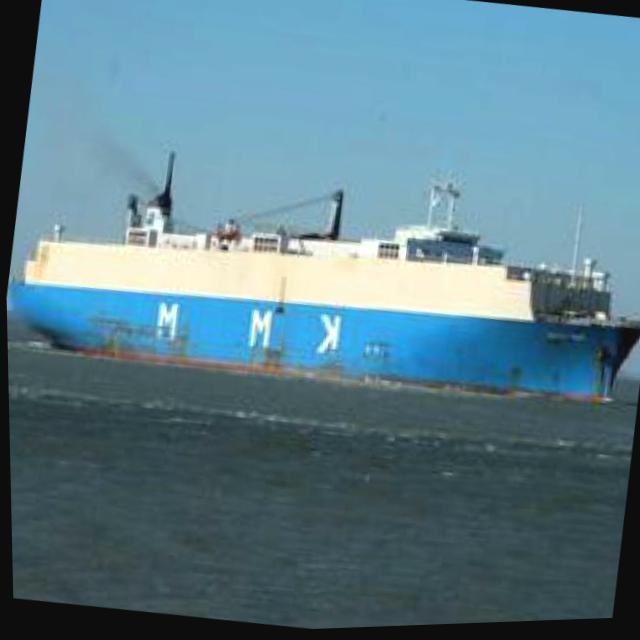ship2: (5, 152, 640, 412)
